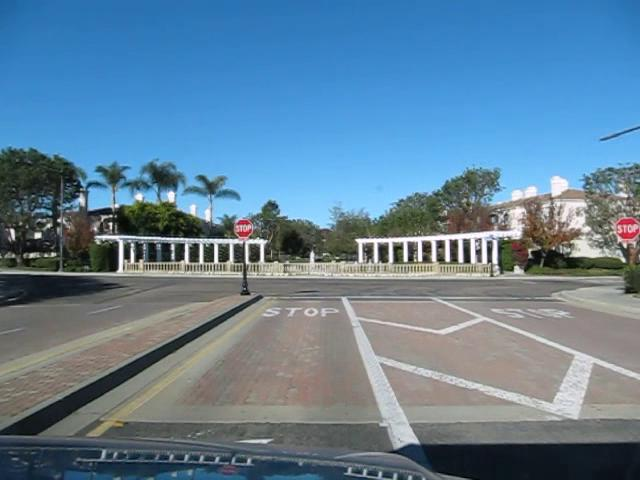stop: (615, 216, 639, 240), (233, 217, 252, 239)
